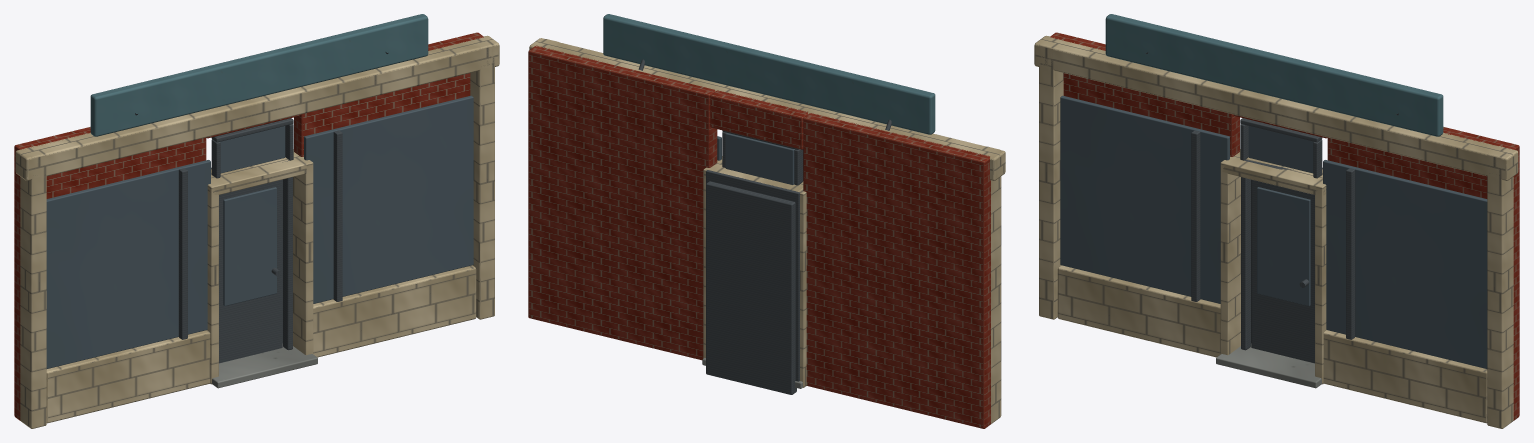
File: storefront-main-street.lod0.gltf
The picture shows the model from 3 angles, left to right: view 1: azimuth 30°, elevation 25°; view 2: azimuth 150°, elevation 25°; view 3: azimuth 330°, elevation 25°; orthographic projection.
Visible parts, largest first — view 1: storefront-main-street; view 2: storefront-main-street; view 3: storefront-main-street.
Boxes of the visible parts, x1,y1,x2,y2 form: storefront-main-street: (14,14,499,428); storefront-main-street: (528,14,1005,428); storefront-main-street: (1034,14,1519,428).
Size of the model in its own units: 5.92 by 3.83 by 0.64.
6 materials, 6 textured.
